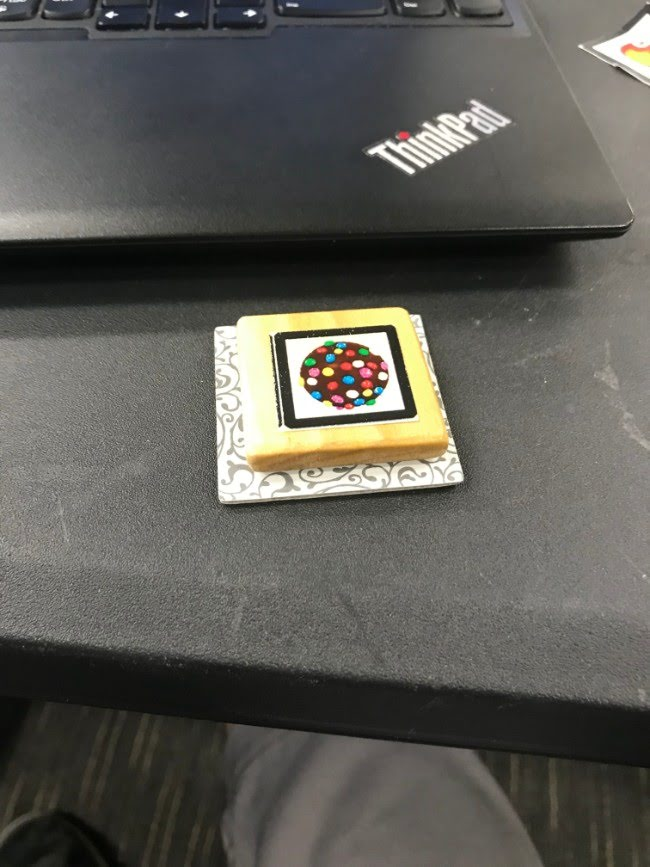cookie: (259, 324, 418, 428)
